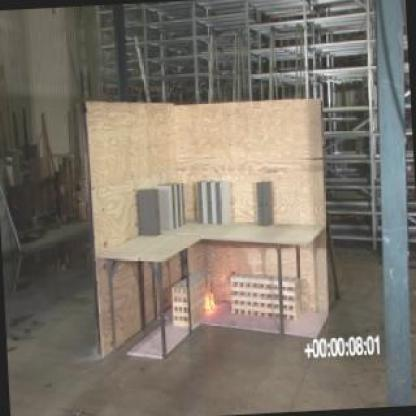Fire: (200, 278, 220, 312)
